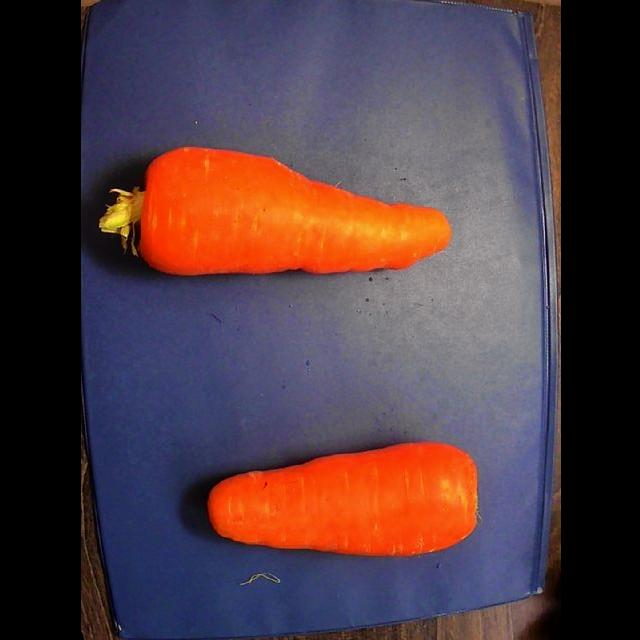zanahoria: (99, 147, 450, 275), (208, 443, 477, 556)
